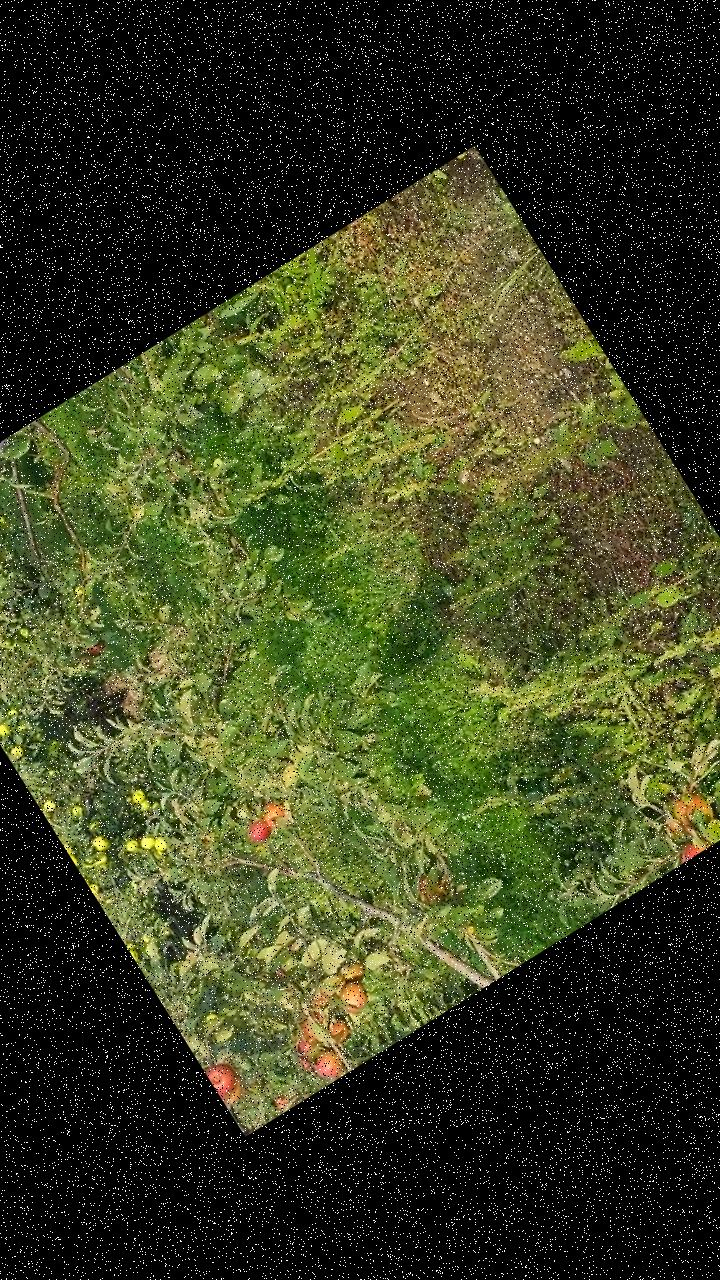Apple: (652, 780, 719, 847), (330, 972, 373, 1016), (305, 1041, 348, 1084), (202, 1054, 244, 1097), (410, 865, 450, 906), (670, 826, 712, 864), (214, 1071, 253, 1108), (332, 952, 370, 989), (255, 794, 292, 832), (305, 988, 338, 1024), (321, 1012, 354, 1046), (241, 814, 274, 846), (291, 1028, 320, 1056), (298, 1016, 321, 1044), (291, 1048, 315, 1074), (82, 638, 105, 658)
